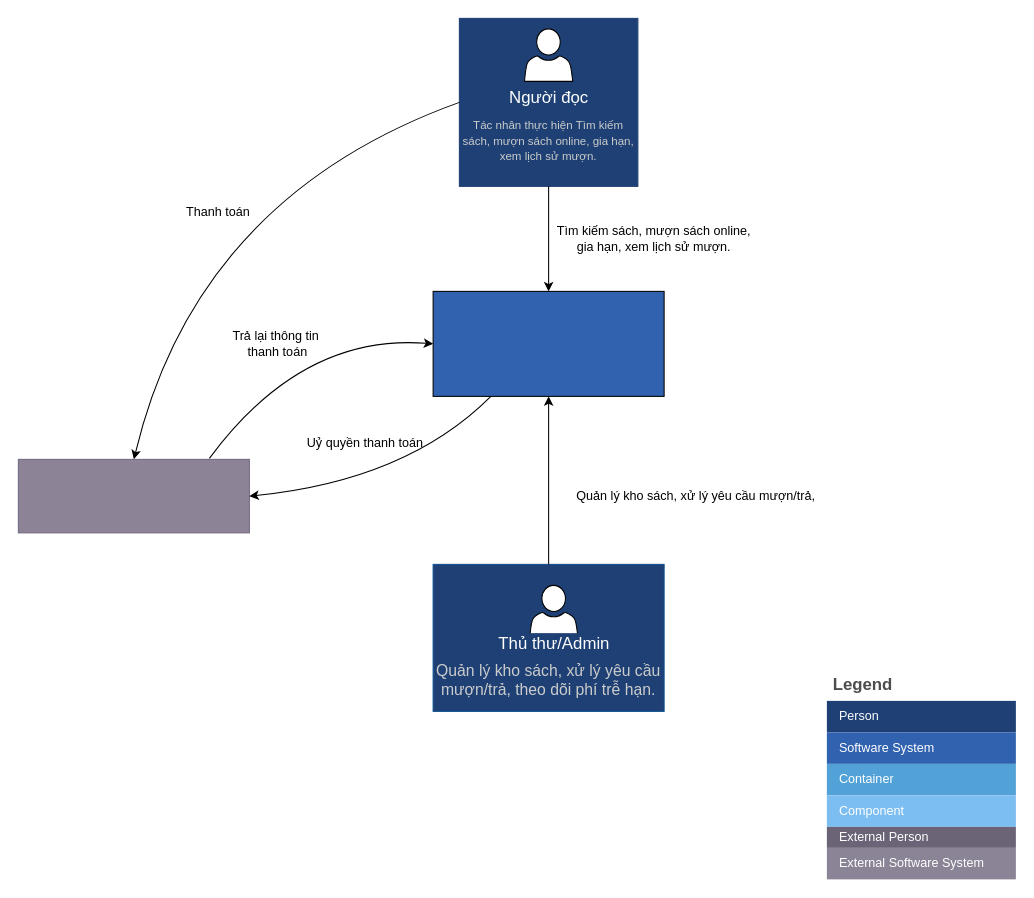
Some shapes in this 1034 by 898 pixel diagram are drawn without their labels. The centre of each missing label's shape, as x and y in pixels:
Hệ thống thanh toán [Hệ thống phần mêm] Dịch vụ thanh toán bên thứ 3: point (133, 495)
Thư viện online: point (548, 343)
